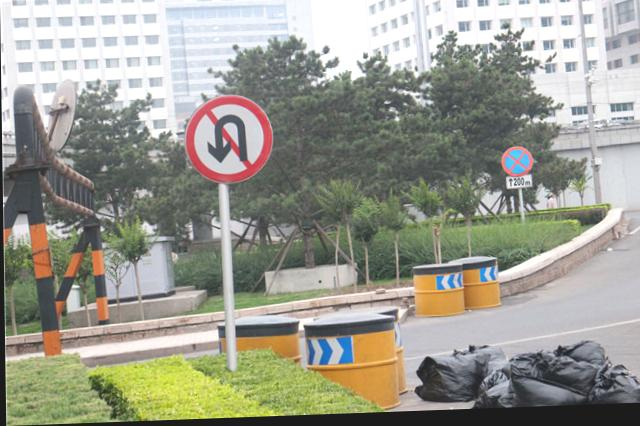not_u_turn_left: (183, 95, 275, 186)
